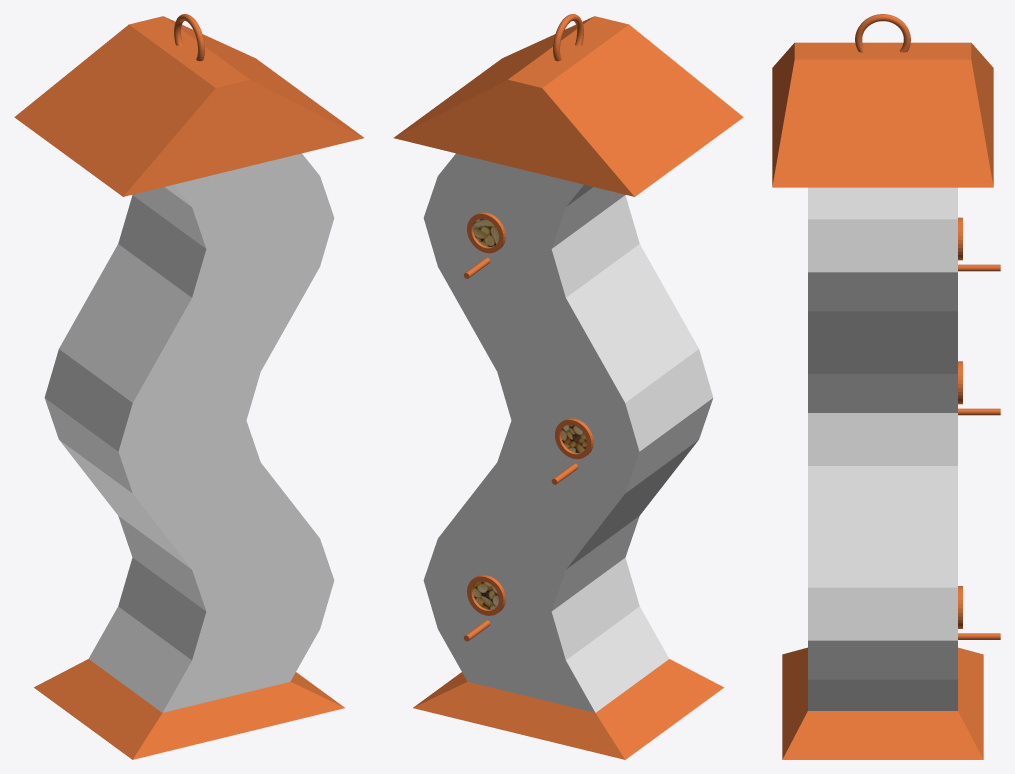
The model's file is Bird Feeder 4.fbx.
The picture shows the model from 3 angles, left to right: view 1: azimuth 30°, elevation 25°; view 2: azimuth 150°, elevation 25°; view 3: azimuth 270°, elevation 25°; orthographic projection.
Visible parts, largest first — view 1: Cube.015, Torus.005; view 2: Cube.015, Cylinder.047, Cylinder.049, Cylinder.045, Torus.005; view 3: Cube.015, Torus.005.
Part boxes in pixels (box(x1,y1,x2,y2)): Cube.015: box(14, 16, 363, 759); Torus.005: box(174, 14, 204, 61); Cube.015: box(394, 16, 743, 759); Cylinder.047: box(467, 212, 505, 253); Cylinder.049: box(555, 418, 593, 459); Cylinder.045: box(467, 575, 505, 615); Torus.005: box(553, 14, 583, 61); Cube.015: box(772, 42, 993, 759); Torus.005: box(855, 14, 910, 52).
Bounding box in the file's own units: 220 × 593 × 177.
